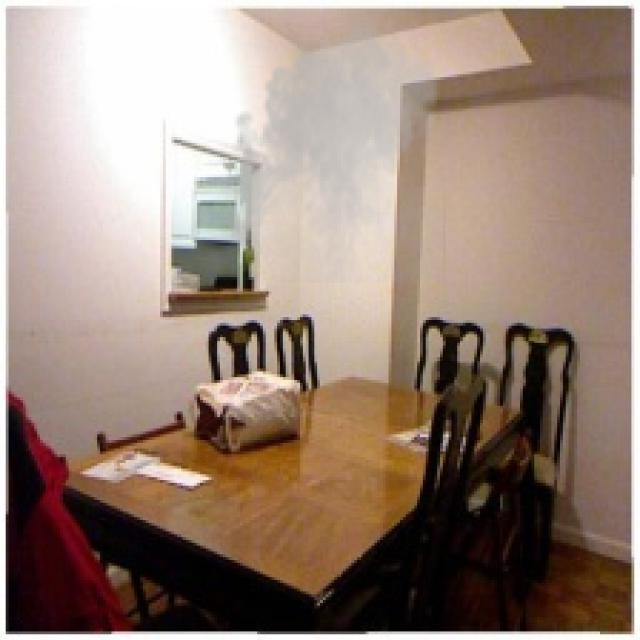Smoke: (220, 6, 446, 283)
